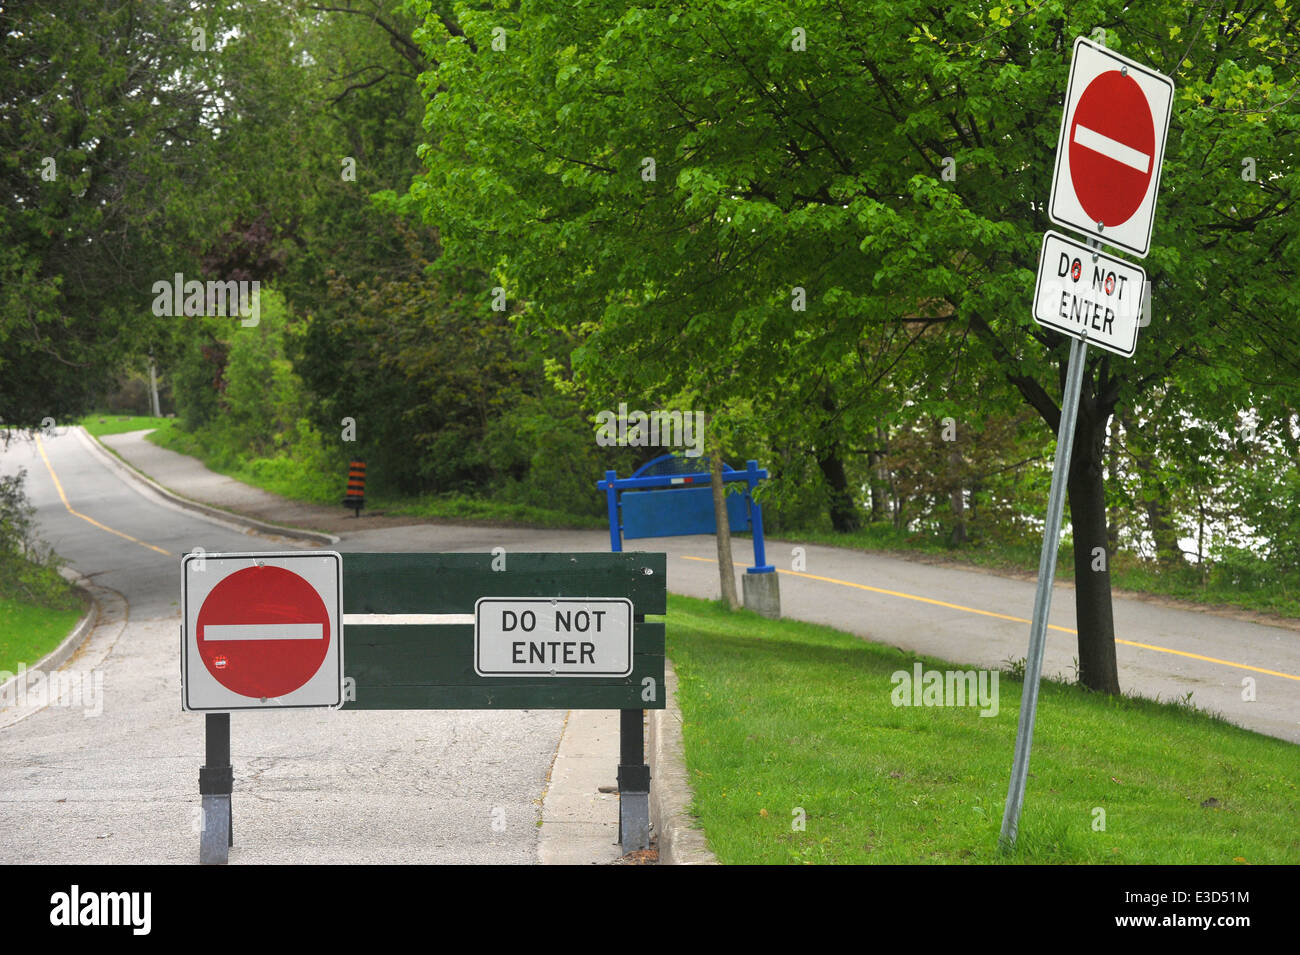sign_noentry: (1047, 34, 1175, 261), (181, 552, 345, 712)
